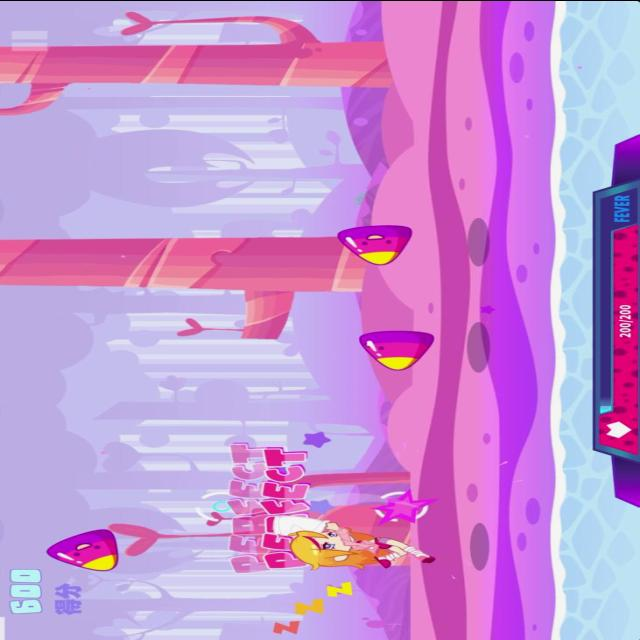jian: (351, 326, 439, 374), (336, 223, 413, 265), (46, 528, 120, 570)
